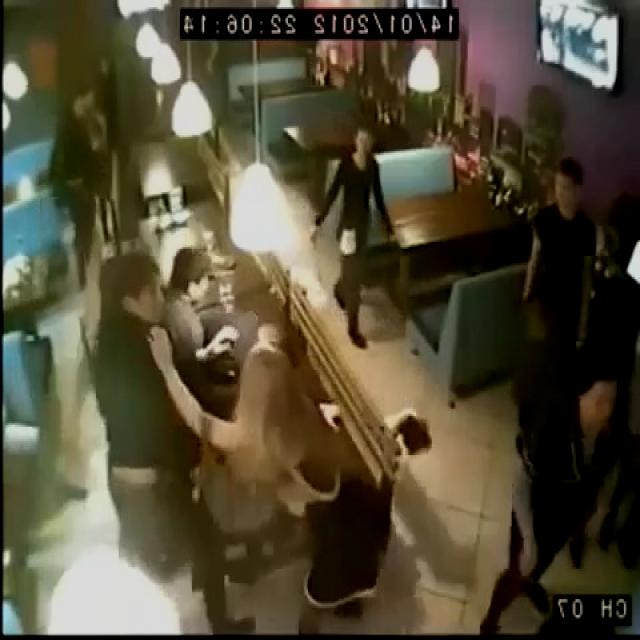fight: (74, 81, 280, 462)
